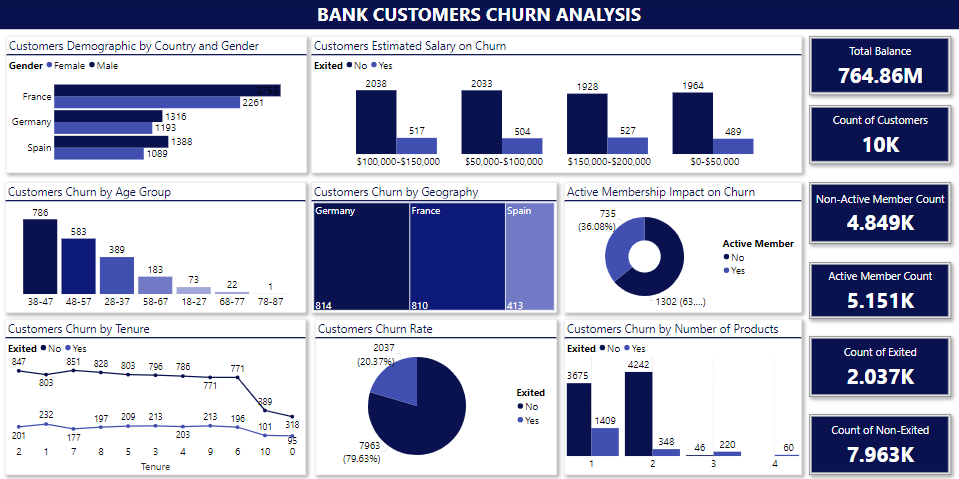

The dashboard page shown, as its layout file describes it:
{"tool":"powerbi","page":{"name":"DASHBOARD","canvas":[3150,1560],"ordinal":0},"visuals":[{"type":"textbox","box":[0,0,3150,94.8],"z":0},{"type":"clusteredBarChart","title":"Customers Demographic by Country & Gender","fields":{"Category":["Bank_Churn.Geography"],"Y":["CountNonNull(Bank_Churn.Customr ID)"],"Series":["Bank_Churn.Gender"]},"box":[800.7,109.3,858.6,472.7],"z":1000},{"type":"pieChart","title":"Customers Churn Rate","fields":{"Y":["CountNonNull(Bank_Churn.Customr ID)"],"Category":["Bank_Churn.Exited"]},"box":[27.1,108.4,751.9,474.2],"z":2000},{"type":"treemap","title":"Customers Churn by Geography","fields":{"Group":["Bank_Churn.Geography"],"Values":["CountNonNull(Bank_Churn.Customr ID)"]},"box":[800.4,605.9,859.5,422.7],"z":3000},{"type":"clusteredColumnChart","title":"Customers Churn by Age Group","fields":{"Category":["Bank_Churn.Age Group"],"Y":["CountNonNull(Bank_Churn.Customr ID)"]},"box":[1683.4,108.4,965.3,474.2],"z":4000},{"type":"clusteredColumnChart","title":"Customers Churn by Number of Products","fields":{"Category":["Bank_Churn.Number of Products"],"Y":["CountNonNull(Bank_Churn.Customr ID)"],"Series":["Bank_Churn.Exited"]},"box":[1682.9,607.3,964.8,423.9],"z":5000},{"type":"barChart","title":"Active Membership Impact on Churn","fields":{"Category":["Bank_Churn.Active Member"],"Y":["CountNonNull(Bank_Churn.Customr ID)"],"Series":["Bank_Churn.Exited"]},"box":[27.1,606.3,751.9,423.4],"z":6000},{"type":"clusteredColumnChart","title":"Customers Estimated Salary on Churn","fields":{"Category":["Bank_Churn.Expected Salary Group"],"Y":["CountNonNull(Bank_Churn.Exited)"],"Series":["Bank_Churn.Exited"]},"box":[28.5,1043.9,1632.2,496.6],"z":7000},{"type":"lineChart","title":"Customers Churn by Tenure","fields":{"Category":["Bank_Churn.Tenure"],"Y":["CountNonNull(Bank_Churn.Customr ID)"],"Series":["Bank_Churn.Exited"]},"box":[1682.9,1043.9,964.8,496.6],"z":8000},{"type":"cardVisual","fields":{"Data":["Avg(Bank_Churn.Estimated Salary)"]},"box":[2672.4,369.2,457.3,189.7],"z":9000},{"type":"cardVisual","fields":{"Data":["CountNonNull(Bank_Churn.Customr ID)"]},"box":[2672.4,108.4,457.3,189.7],"z":10000},{"type":"cardVisual","fields":{"Data":["Max(Bank_Churn.Geography)"]},"box":[2673,847.8,455.5,183.5],"z":11000},{"type":"cardVisual","fields":{"Data":["CountNonNull(Bank_Churn.Exited)"]},"box":[2673,1094.5,455.5,196.1],"z":12000},{"type":"cardVisual","fields":{"Data":["CountNonNull(Bank_Churn.Exited)"]},"box":[2673,1344.4,455.5,196.1],"z":13000},{"type":"cardVisual","fields":{"Data":["Avg(Bank_Churn.Credit Score)"]},"box":[2672.4,606.3,457.3,189.7],"z":14000}]}

Visuals, with their boxes in screenshot pixels (x1, y1, x2, y2), scaled from the page's 3150x1560 canvas onto the 959x479 screenshot:
textbox: <bbox>0, 0, 958, 29</bbox>
"Customers Demographic by Country & Gender" clusteredBarChart: <bbox>244, 34, 505, 179</bbox>
"Customers Churn Rate" pieChart: <bbox>8, 33, 237, 179</bbox>
"Customers Churn by Geography" treemap: <bbox>244, 186, 505, 316</bbox>
"Customers Churn by Age Group" clusteredColumnChart: <bbox>513, 33, 806, 179</bbox>
"Customers Churn by Number of Products" clusteredColumnChart: <bbox>512, 186, 806, 317</bbox>
"Active Membership Impact on Churn" barChart: <bbox>8, 186, 237, 316</bbox>
"Customers Estimated Salary on Churn" clusteredColumnChart: <bbox>9, 321, 506, 473</bbox>
"Customers Churn by Tenure" lineChart: <bbox>512, 321, 806, 473</bbox>
cardVisual - Avg(Bank_Churn.Estimated Salary): <bbox>814, 113, 953, 172</bbox>
cardVisual - CountNonNull(Bank_Churn.Customr ID): <bbox>814, 33, 953, 92</bbox>
cardVisual - Max(Bank_Churn.Geography): <bbox>814, 260, 952, 317</bbox>
cardVisual - CountNonNull(Bank_Churn.Exited): <bbox>814, 336, 952, 396</bbox>
cardVisual - CountNonNull(Bank_Churn.Exited): <bbox>814, 413, 952, 473</bbox>
cardVisual - Avg(Bank_Churn.Credit Score): <bbox>814, 186, 953, 244</bbox>
